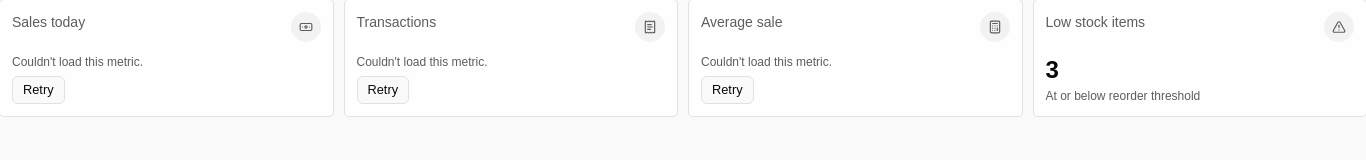
Test: MetricCards › shows an inline error and retries the overview
Expected: the text "Couldn't load this metric." is shown 3 times, [12,55,143,69]; [356,55,488,69]; [701,55,832,69]
Click the button "Retry" below "Sales today". click: [38, 90]
box: [12,76,65,104]
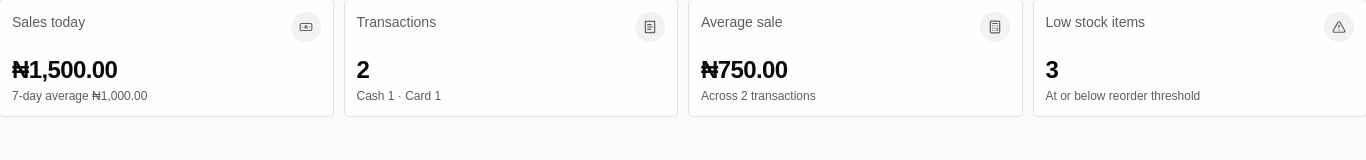
Now the text "₦1,500.00" is shown, box [12,56,117,83]
